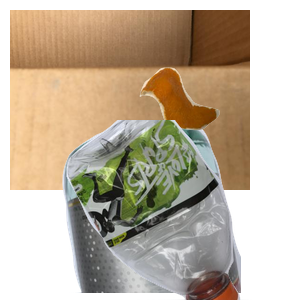cardboard: (10, 10, 250, 190)
glass: (60, 120, 300, 300)
plastic: (64, 120, 300, 300)
trash: (137, 65, 300, 188)
